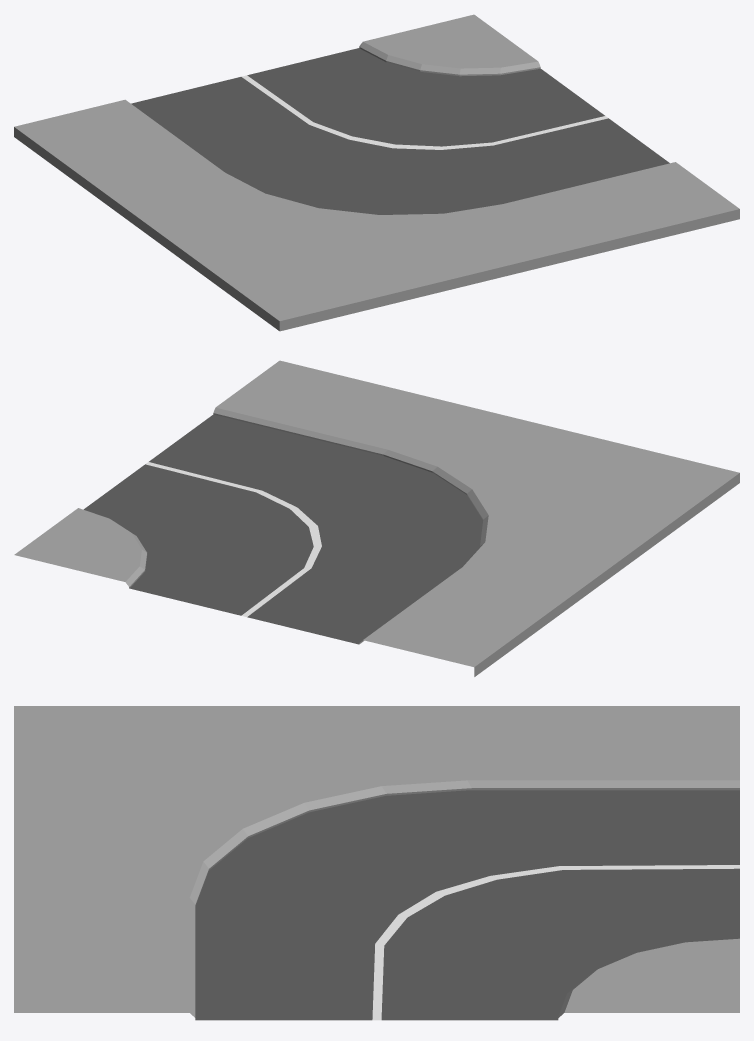
Rendered from roadTurn.fbx.
The picture shows the model from 3 angles, top to bottom: view 1: azimuth 30°, elevation 25°; view 2: azimuth 150°, elevation 25°; view 3: azimuth 270°, elevation 25°; orthographic projection. The views are drawn at different scales.
Visible parts, largest first — view 1: RoadTurn; view 2: RoadTurn; view 3: RoadTurn.
Part boxes in pixels (left/top/right/bottom): RoadTurn: left=14, top=14, right=739, bottom=331; RoadTurn: left=14, top=360, right=739, bottom=676; RoadTurn: left=14, top=706, right=739, bottom=1020.
Bounding box in the file's own units: 2000 × 42.29 × 2000.
